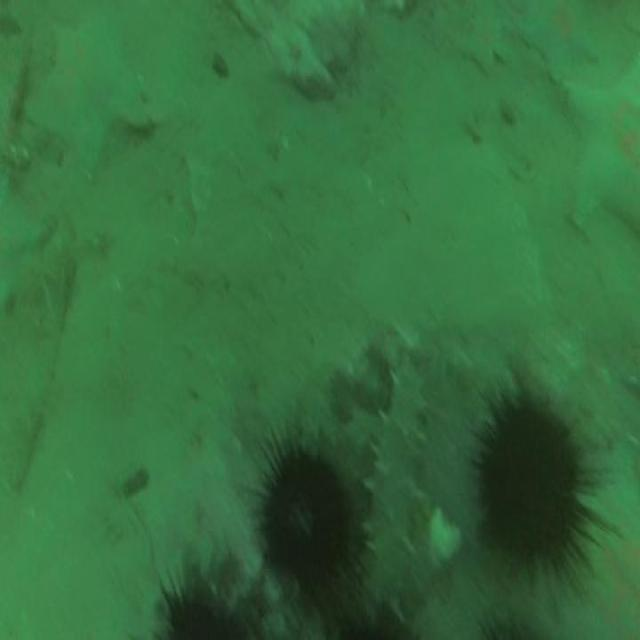echinus: (478, 398, 580, 568), (262, 455, 353, 586)
holothurian: (366, 362, 425, 610)
starfish: (26, 16, 149, 170), (569, 63, 640, 228), (518, 0, 601, 79), (462, 18, 508, 78)
